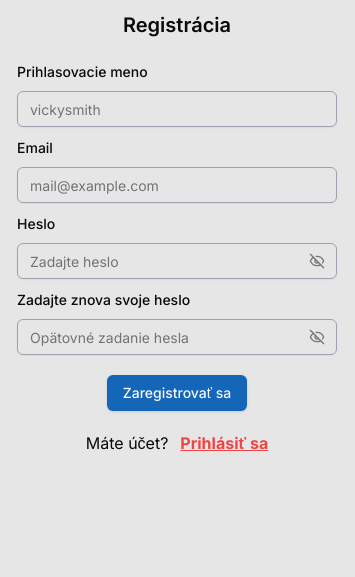
Test: FormRegister › shows validation errors for empty inputs
This screenshot has width=355, height=577.
Step 1. Click the button "Zaregistrovať sa" → [177, 393], box [107,375,247,411]
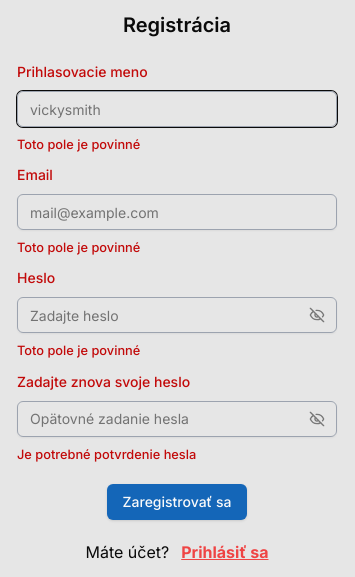
Expected: the text "Toto pole je povinné" is shown 3 times, [17,137,140,152]; [17,240,140,255]; [17,343,140,358]
Expected: the text "Je potrebné potvrdenie hesla" is shown, [17,447,196,462]
